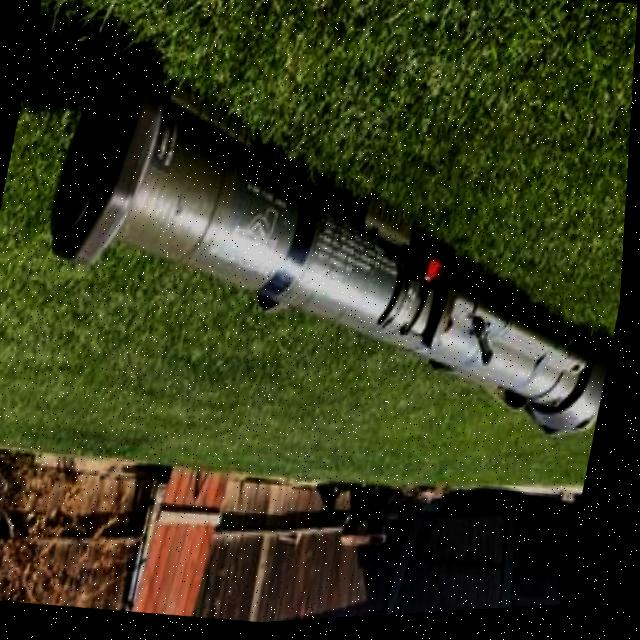rocket: (12, 24, 637, 483)
